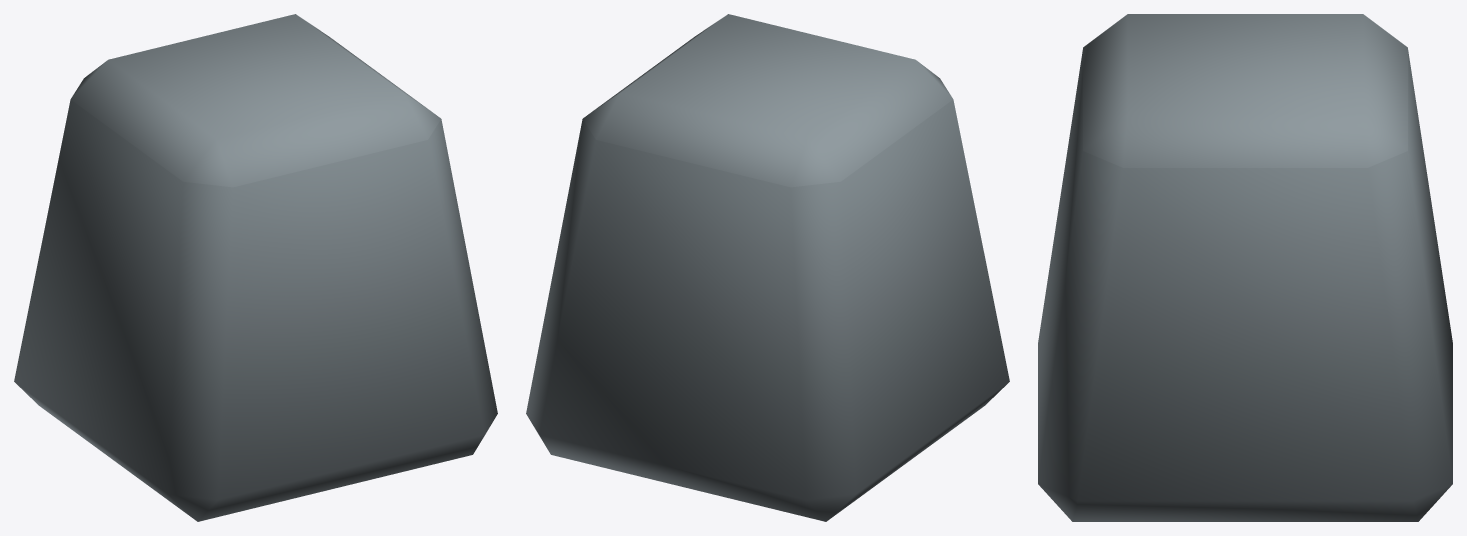
Rendered from Rock_2_B.glb.
3 renders of one model, left to right at view 1: azimuth 30°, elevation 25°; view 2: azimuth 150°, elevation 25°; view 3: azimuth 270°, elevation 25°, orthographic. The views are drawn at different scales.
Parts seen in each view (by area): view 1: Rock_2_B_Color1; view 2: Rock_2_B_Color1; view 3: Rock_2_B_Color1.
Boxes of the visible parts, left/top/right/bottom form: Rock_2_B_Color1: left=14, top=14, right=497, bottom=521; Rock_2_B_Color1: left=526, top=14, right=1009, bottom=521; Rock_2_B_Color1: left=1038, top=14, right=1452, bottom=521.
Size of the model in its own units: 0.6301 by 0.6455 by 0.6301.
1 material, 1 textured.
